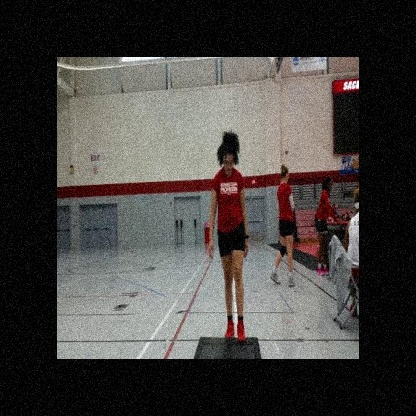lateral_flexion_normal: (205, 127, 253, 347)
stance_width_narrow: (205, 162, 254, 347)
